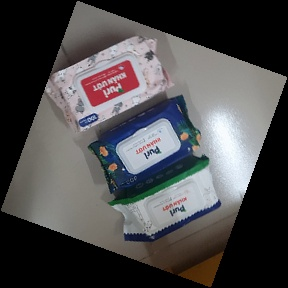Puri Trang: (107, 153, 223, 244)
Puri Xanh: (86, 92, 205, 193)
Puri hong: (41, 35, 175, 135)
